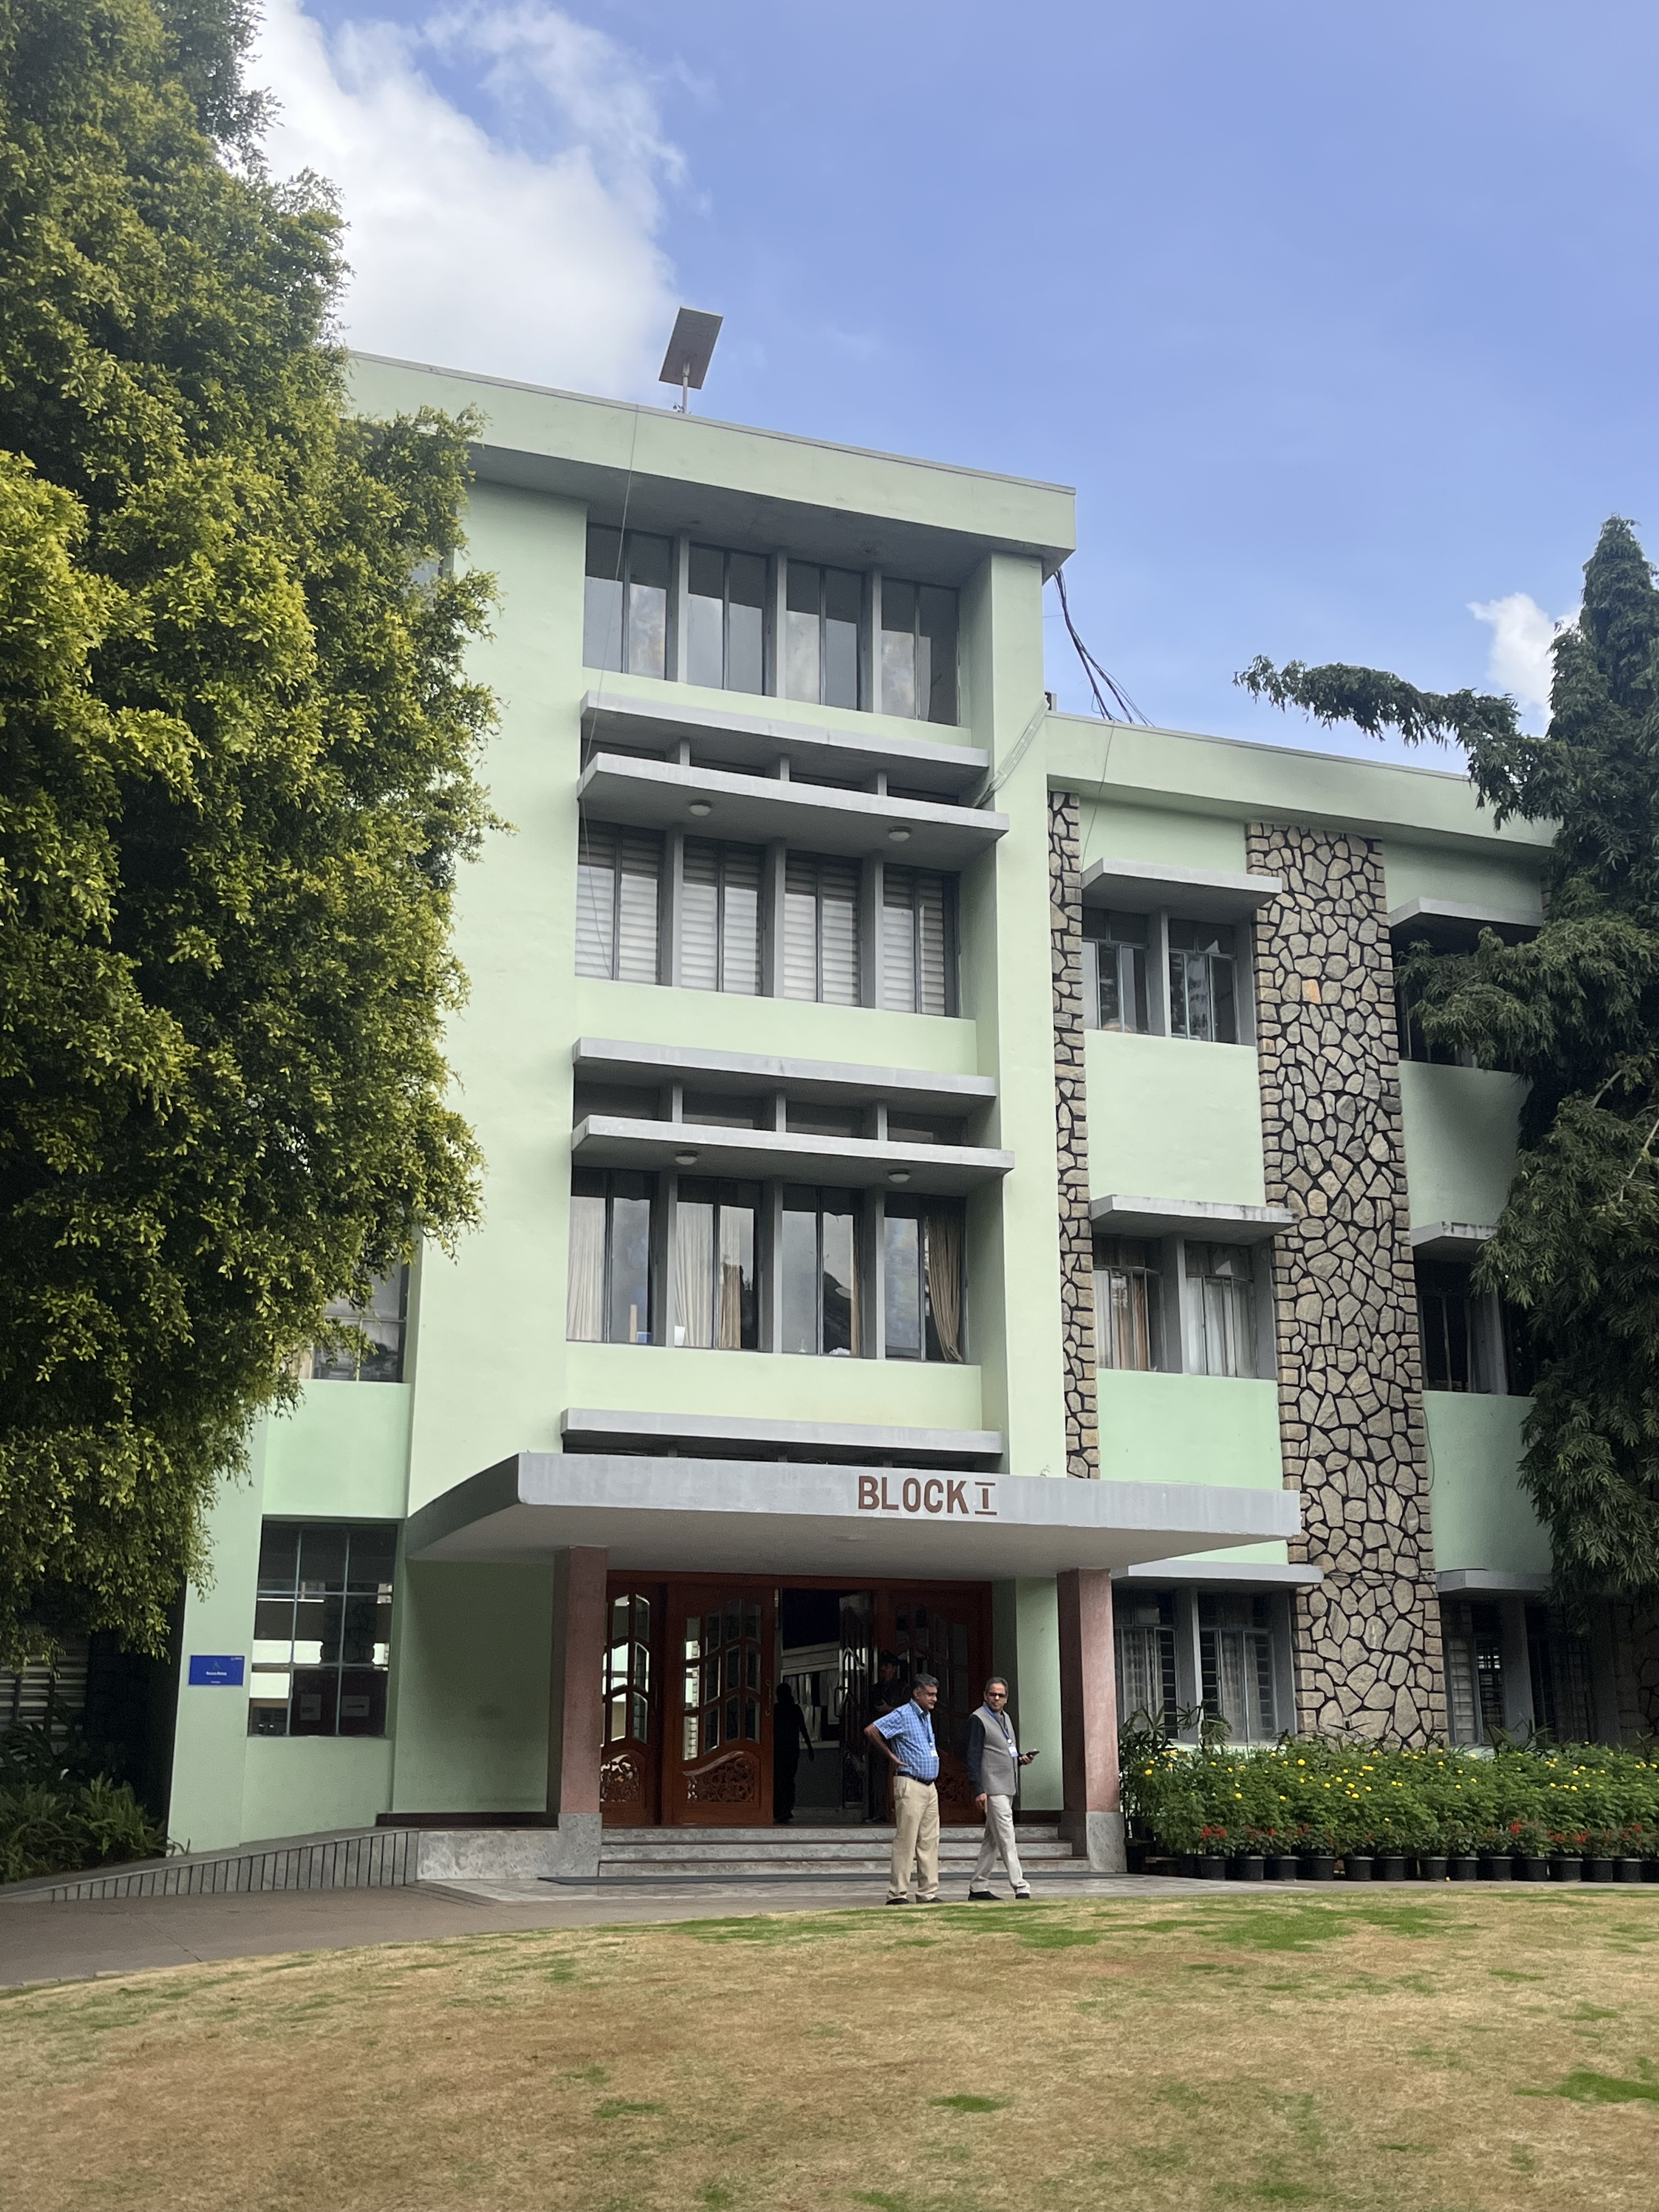Block 1: (422, 225, 1546, 1735)
